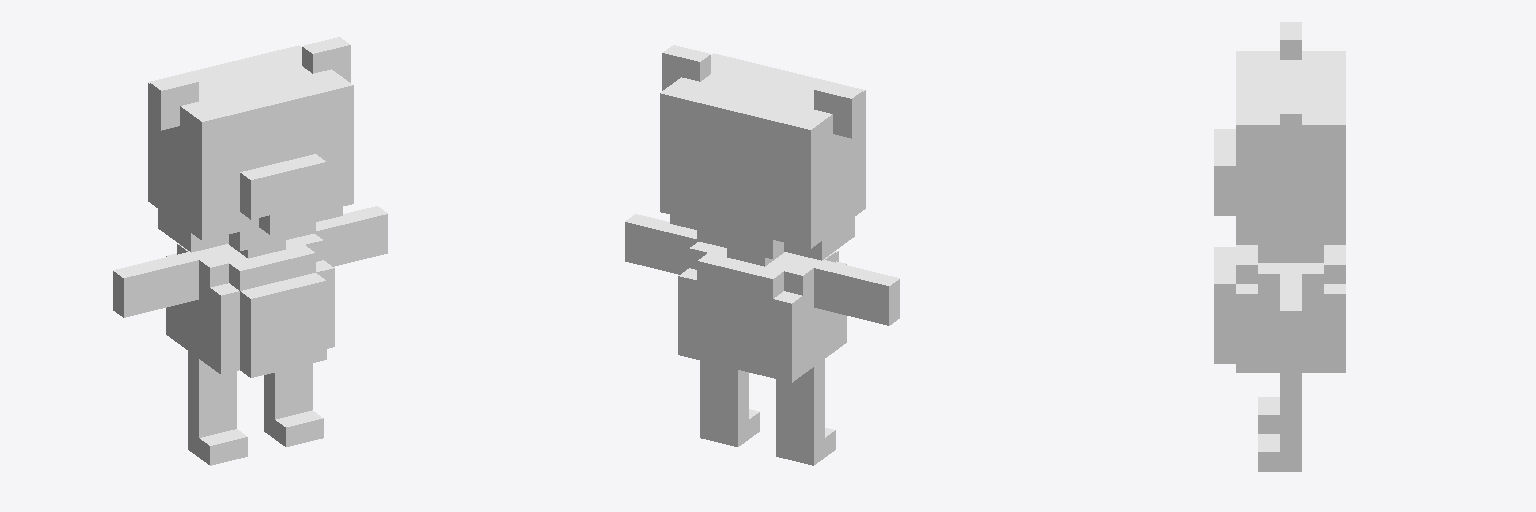
Rendered from RunnerSkin2.obj.
The picture shows the model from 3 angles: view 1: azimuth 30°, elevation 25°; view 2: azimuth 150°, elevation 25°; view 3: azimuth 270°, elevation 25°; orthographic projection.
Bounding box in the file's own units: 14 × 19 × 6.